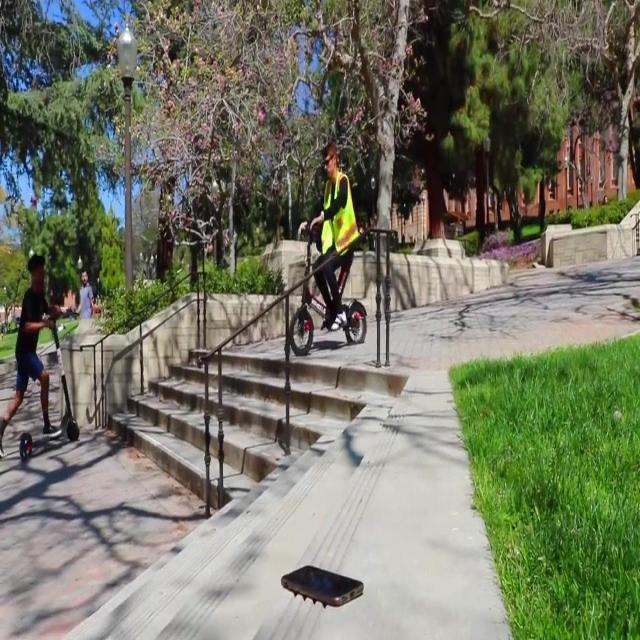Vest: (320, 173, 361, 254)
